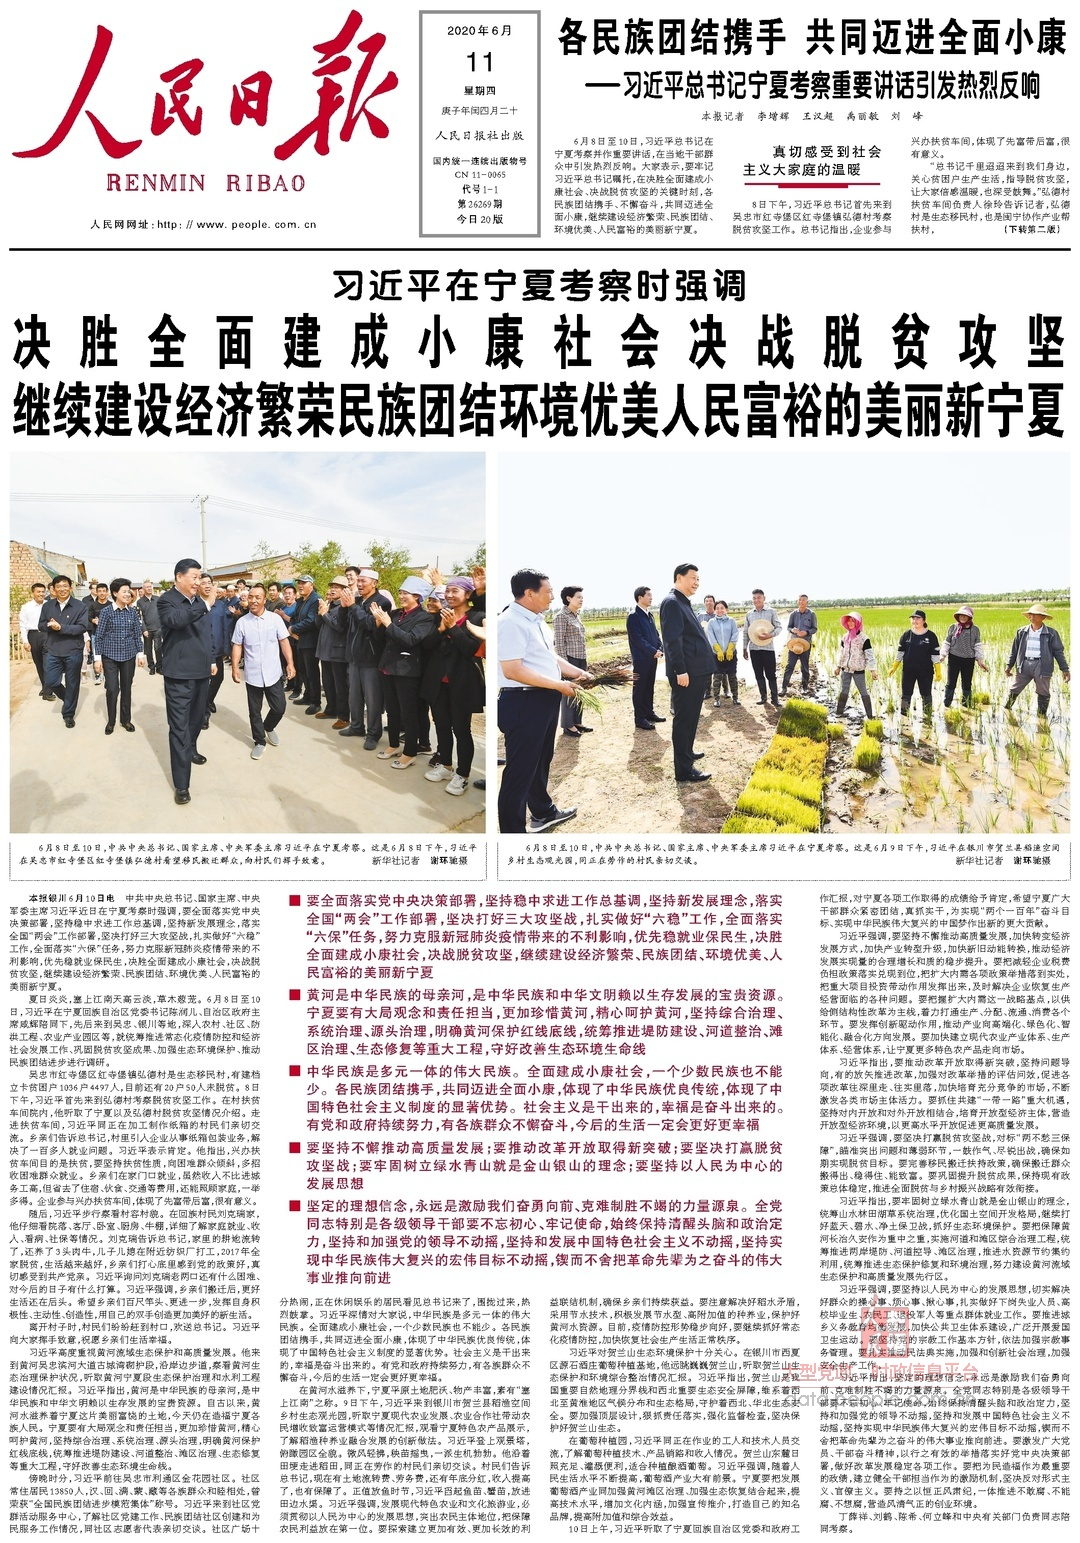pic: (490, 446, 1074, 840), (5, 446, 487, 836)
